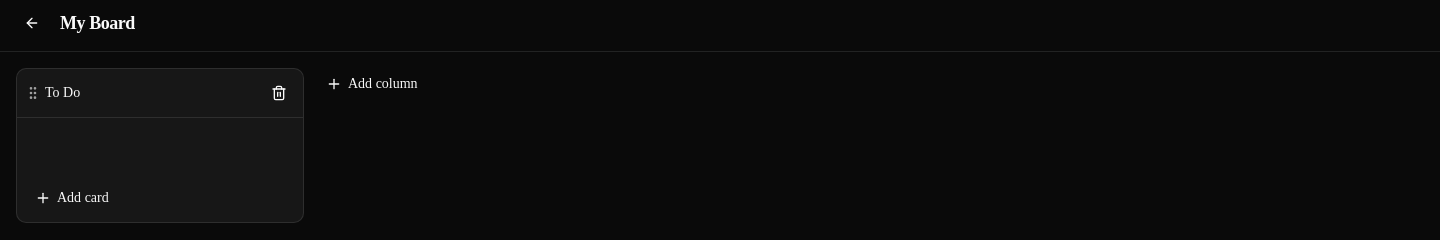
BoardCanvas › creates a column via InlineCreate and refreshes
The width and height of the screenshot is (1440, 240).
Expected: the button "To Do" is shown, x1=45 y1=83 x2=80 y2=103
Click the button "Add column".
click(372, 84)  # box x1=316 y1=68 x2=428 y2=100
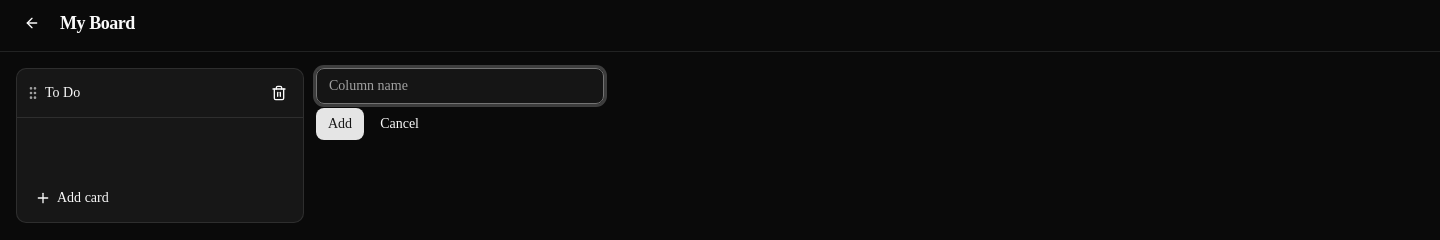
Type "Doing" into the field named "New column name".
click(460, 86); type("Doing")  # box x1=316 y1=68 x2=604 y2=104
Then press Enter
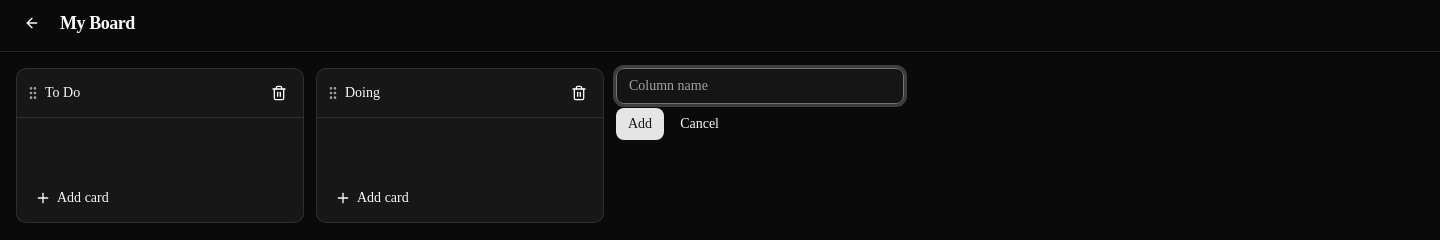
Now the button "Doing" is shown, box x1=345 y1=83 x2=380 y2=103
